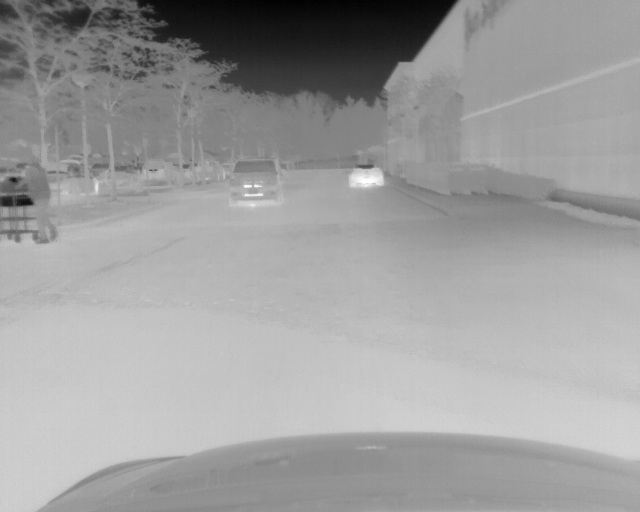car: (227, 158, 283, 206), (41, 159, 100, 194), (347, 163, 387, 189), (139, 158, 174, 184)
people: (20, 155, 61, 245)
